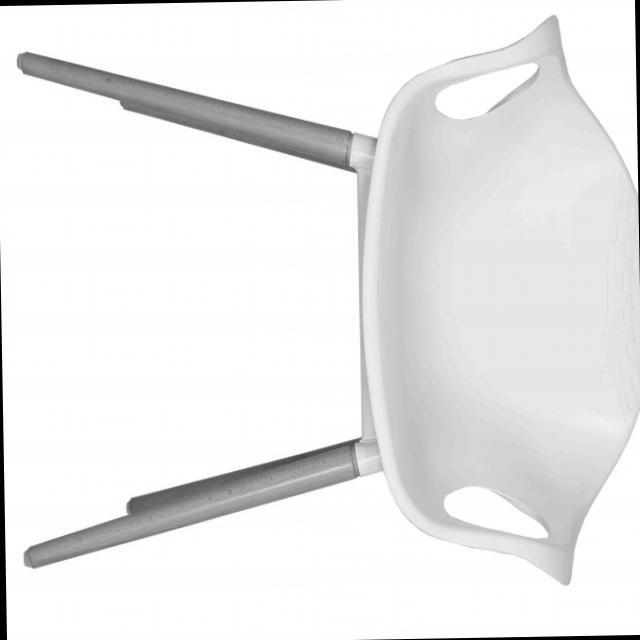chair: (8, 10, 640, 607)
